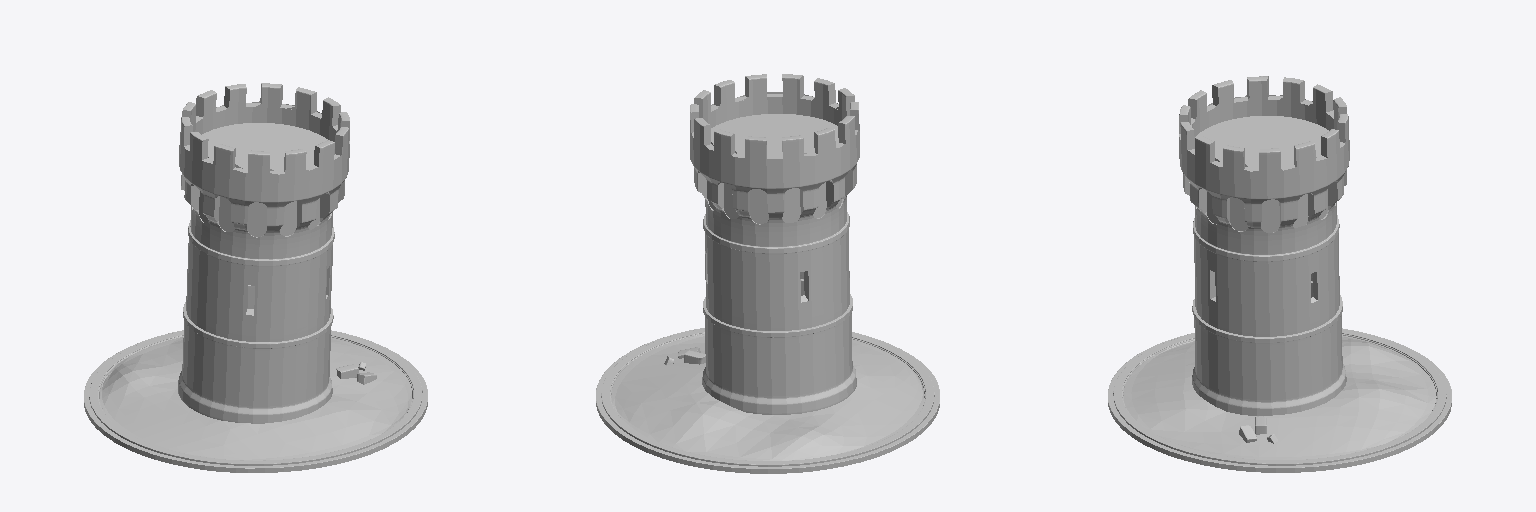
Rendered from tower.obj.
The picture shows the model from 3 angles: view 1: azimuth 30°, elevation 25°; view 2: azimuth 150°, elevation 25°; view 3: azimuth 270°, elevation 25°; orthographic projection.
Parts seen in each view (by area): view 1: tower_Plane.006, Plane_Plane.001; view 2: tower_Plane.006, Plane_Plane.001; view 3: tower_Plane.006, Plane_Plane.001.
Boxes of the visible parts, x1,y1,x2,y2 form: tower_Plane.006: [178, 83, 349, 423]; Plane_Plane.001: [84, 330, 427, 472]; tower_Plane.006: [690, 74, 859, 414]; Plane_Plane.001: [596, 328, 939, 473]; tower_Plane.006: [1179, 76, 1349, 415]; Plane_Plane.001: [1108, 328, 1451, 472].
Bounding box in the file's own units: 3.99 × 3.71 × 3.99.